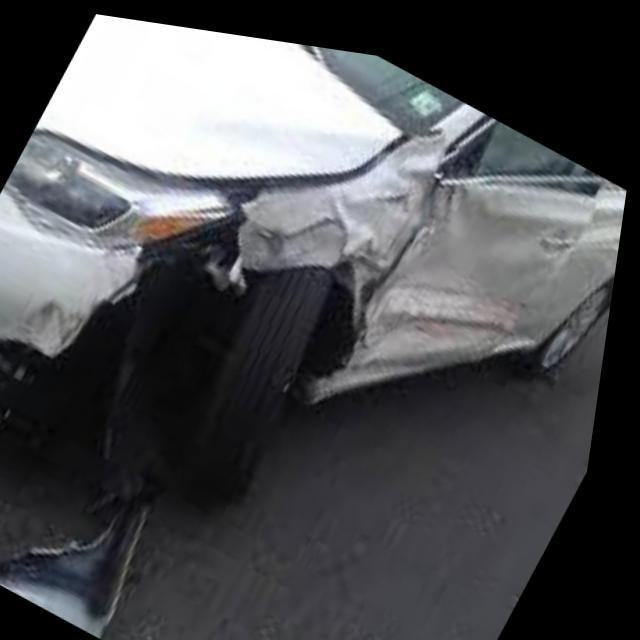no part: (0, 90, 603, 434)
